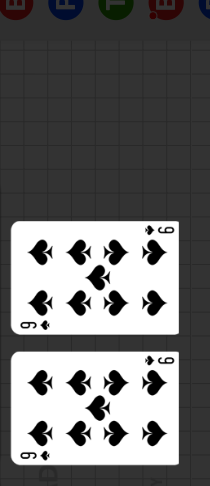9S: (19, 318, 52, 331), (143, 224, 176, 237)
